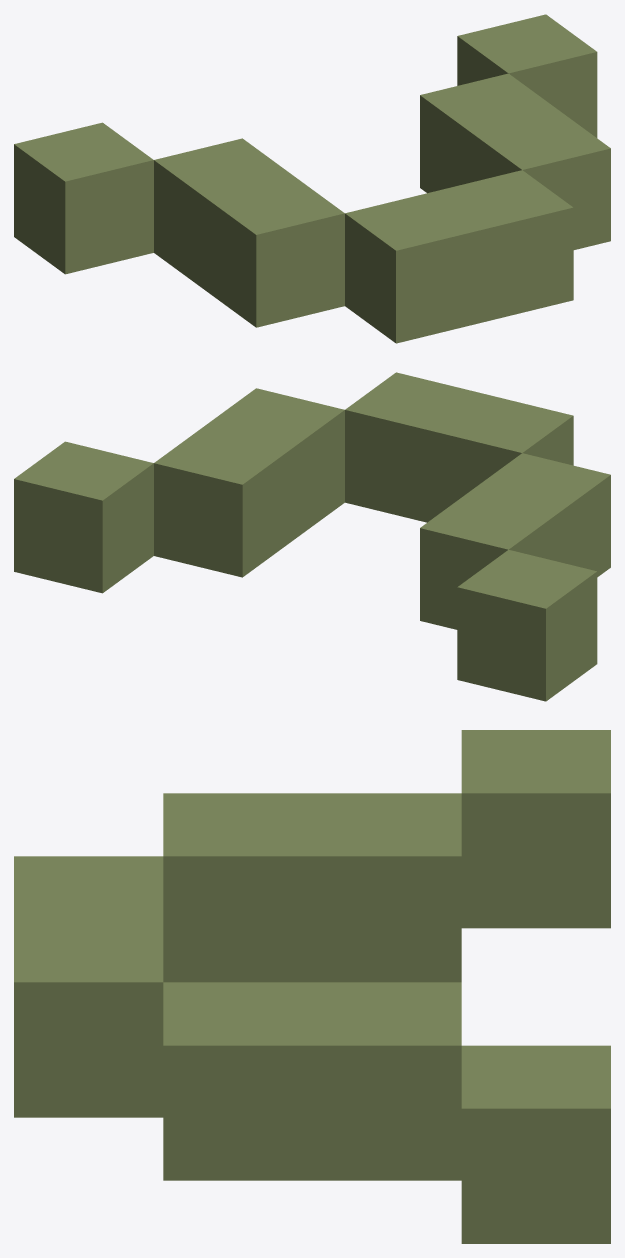
File: eProjectile1.obj
The picture shows the model from 3 angles, top to bottom: view 1: azimuth 30°, elevation 25°; view 2: azimuth 150°, elevation 25°; view 3: azimuth 270°, elevation 25°; orthographic projection. The views are drawn at different scales.
Size of the model in its own units: 6 by 1 by 4.
1 material, 1 textured.
